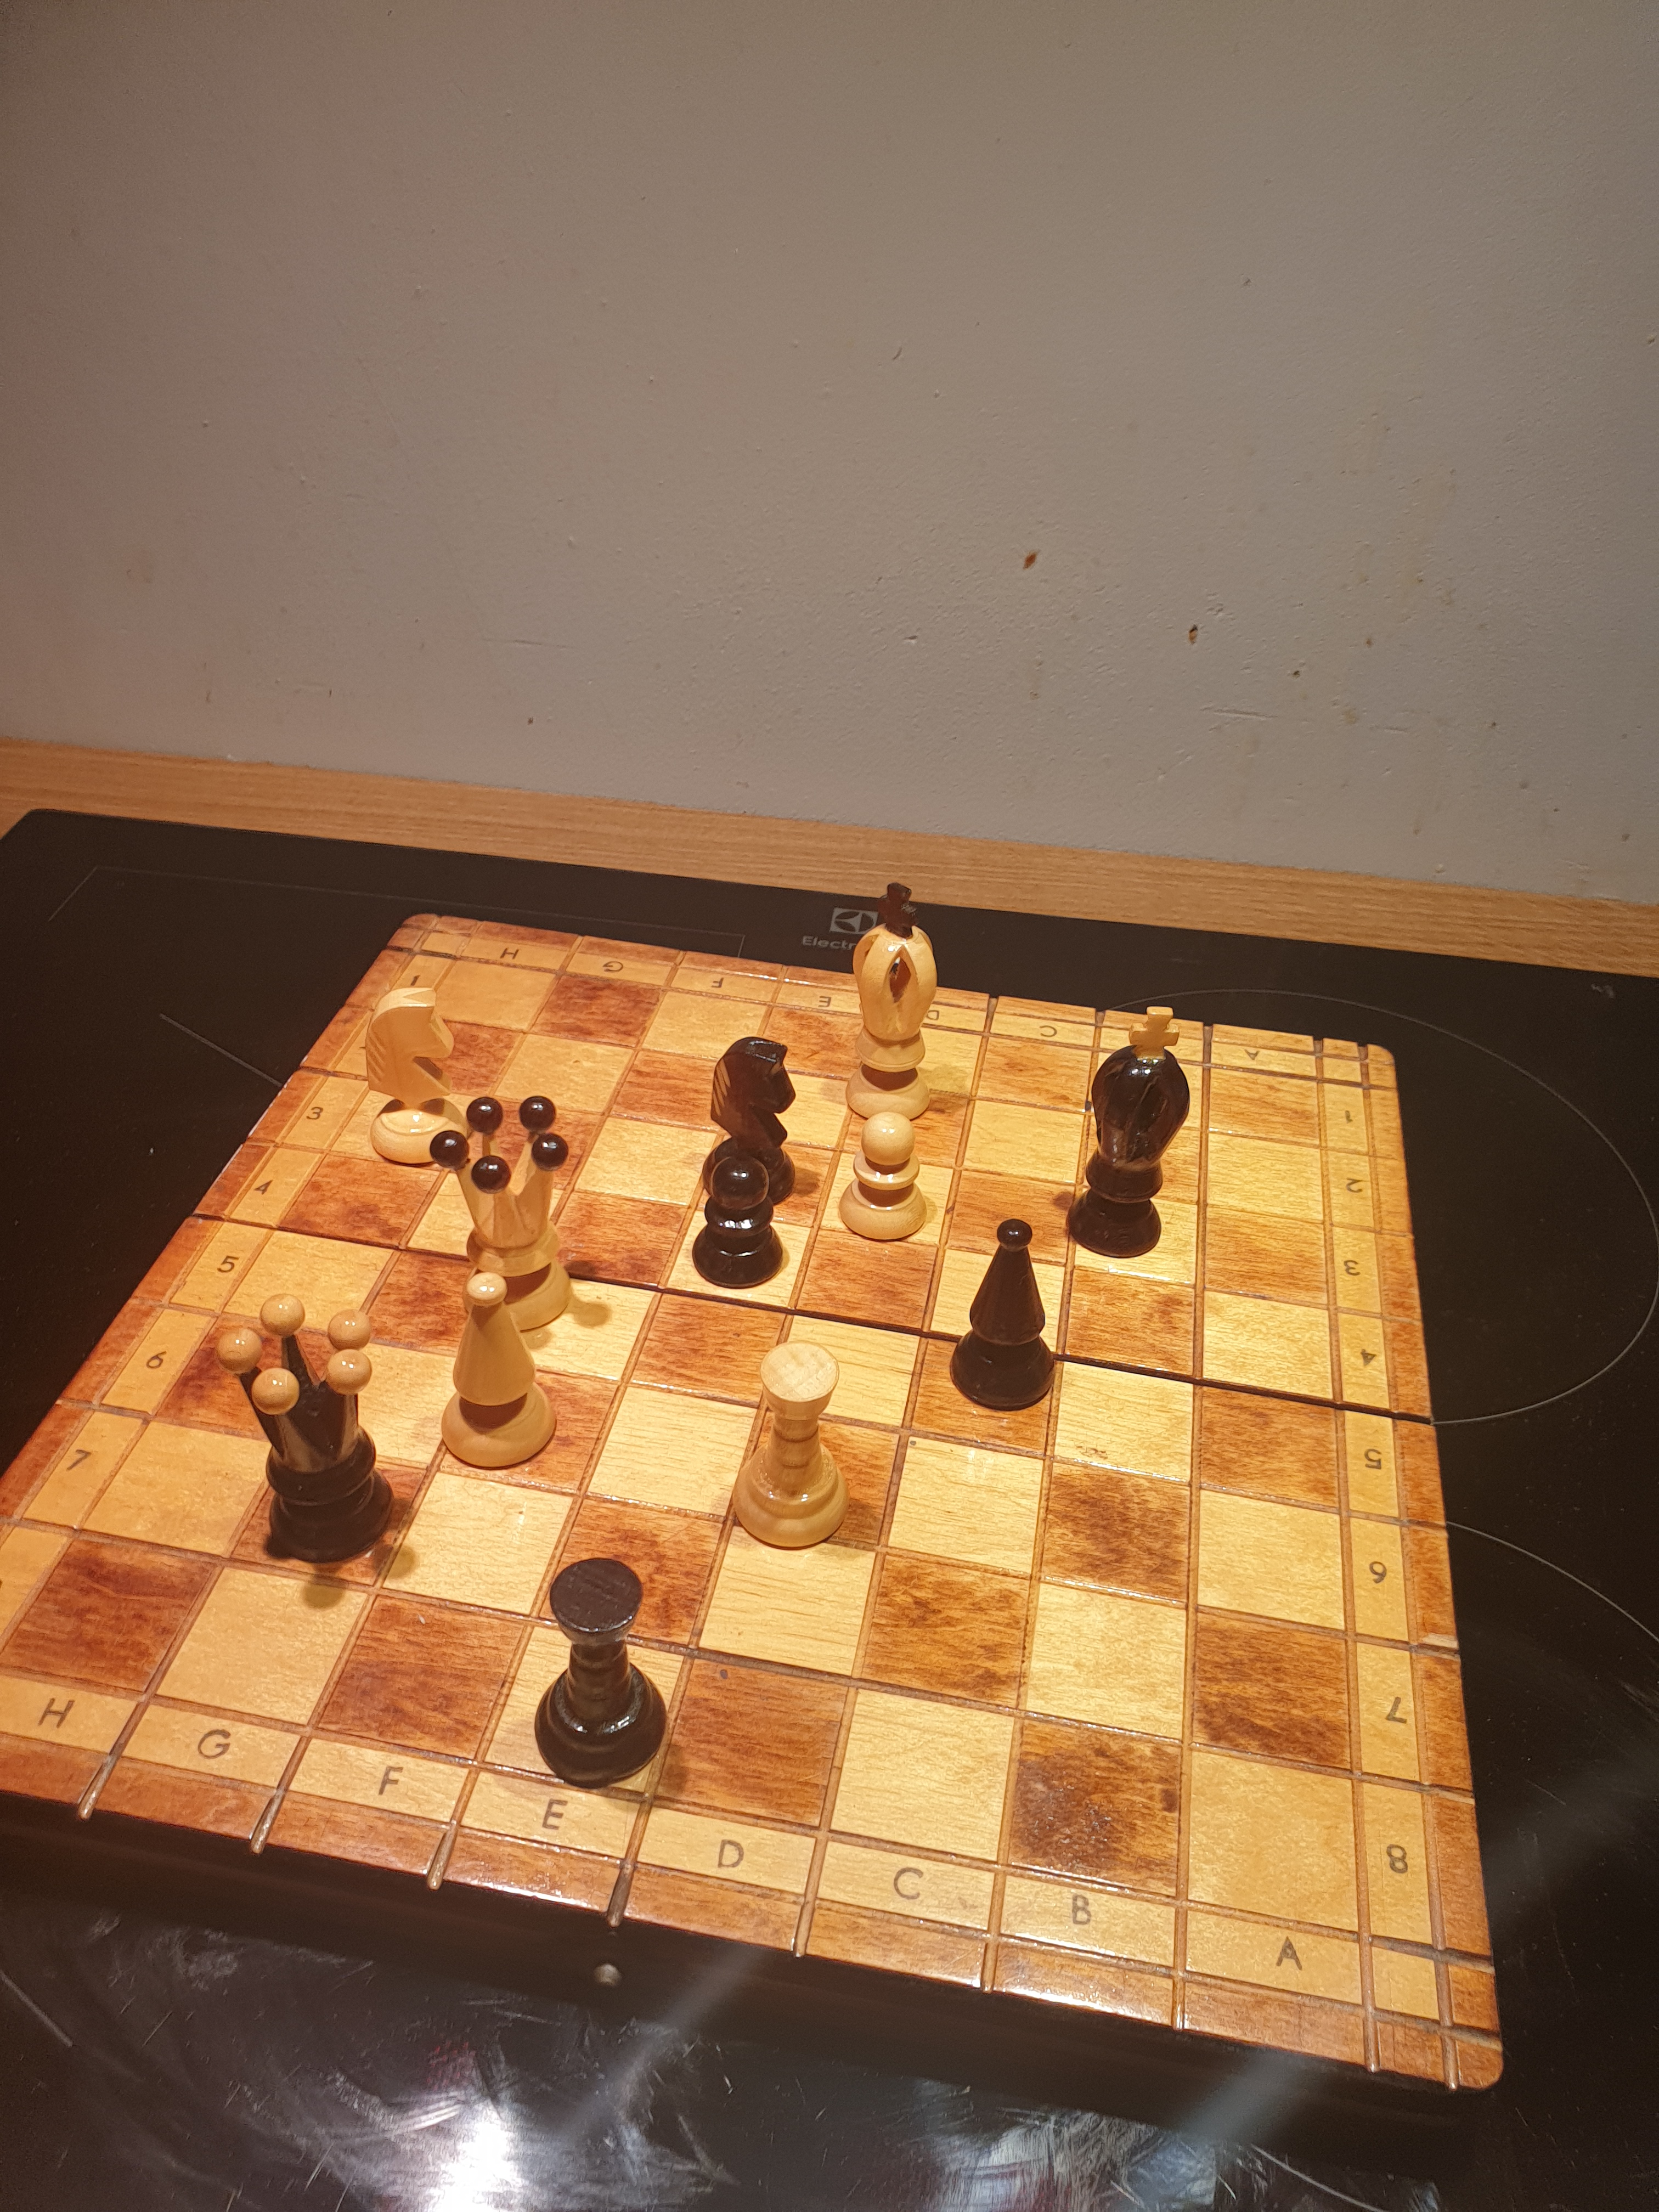bbishop: (939, 1212, 1082, 1420)
bking: (1060, 998, 1190, 1271)
bknight: (690, 1029, 807, 1211)
bpawn: (676, 1144, 798, 1301)
bqueen: (209, 1282, 422, 1578)
brook: (528, 1552, 681, 1801)
wbishop: (437, 1263, 566, 1479)
wking: (828, 873, 950, 1137)
wknight: (361, 974, 481, 1179)
wpawn: (823, 1108, 948, 1258)
wqueen: (425, 1090, 599, 1346)
wrook: (723, 1334, 859, 1561)
